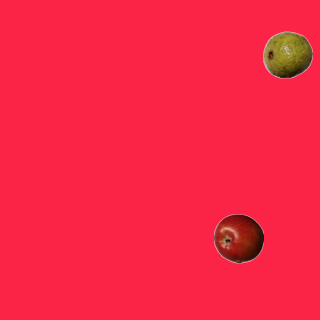Apple Braeburn: (213, 213, 263, 263)
Guava: (262, 29, 312, 79)
